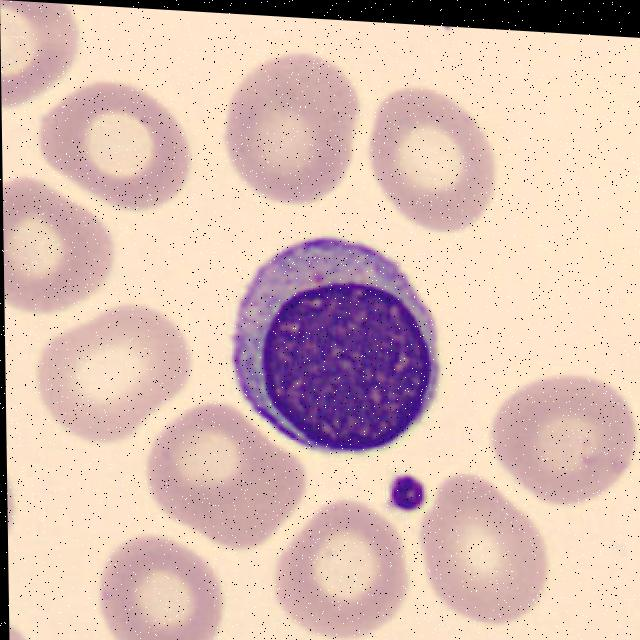lymphocyte: (229, 231, 440, 455)
platelets: (384, 464, 426, 515)
rbc: (223, 45, 354, 204), (489, 362, 640, 498), (424, 487, 552, 627), (52, 83, 189, 213), (3, 173, 113, 326), (280, 507, 407, 639), (379, 93, 497, 233), (36, 320, 154, 445), (190, 438, 310, 558), (154, 407, 263, 530), (103, 534, 225, 640), (94, 304, 201, 402), (0, 0, 92, 111), (7, 467, 23, 536), (9, 614, 46, 640)
